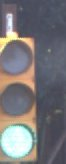Green: (2, 29, 37, 160)
